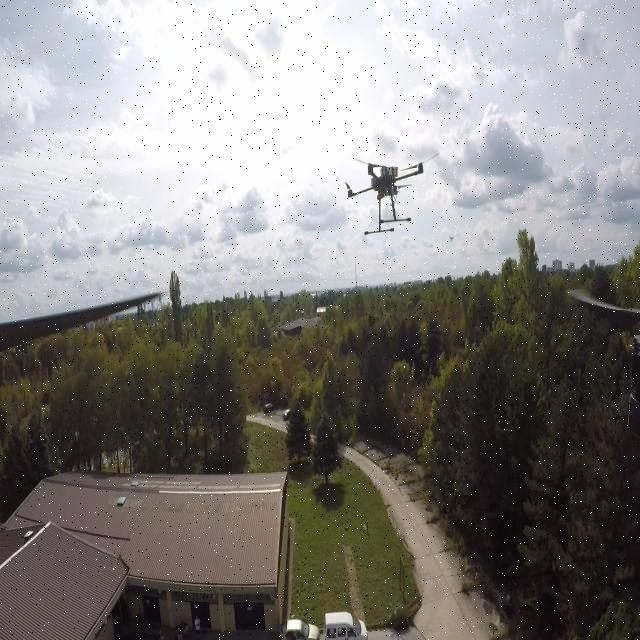UAV: (335, 153, 433, 240)
